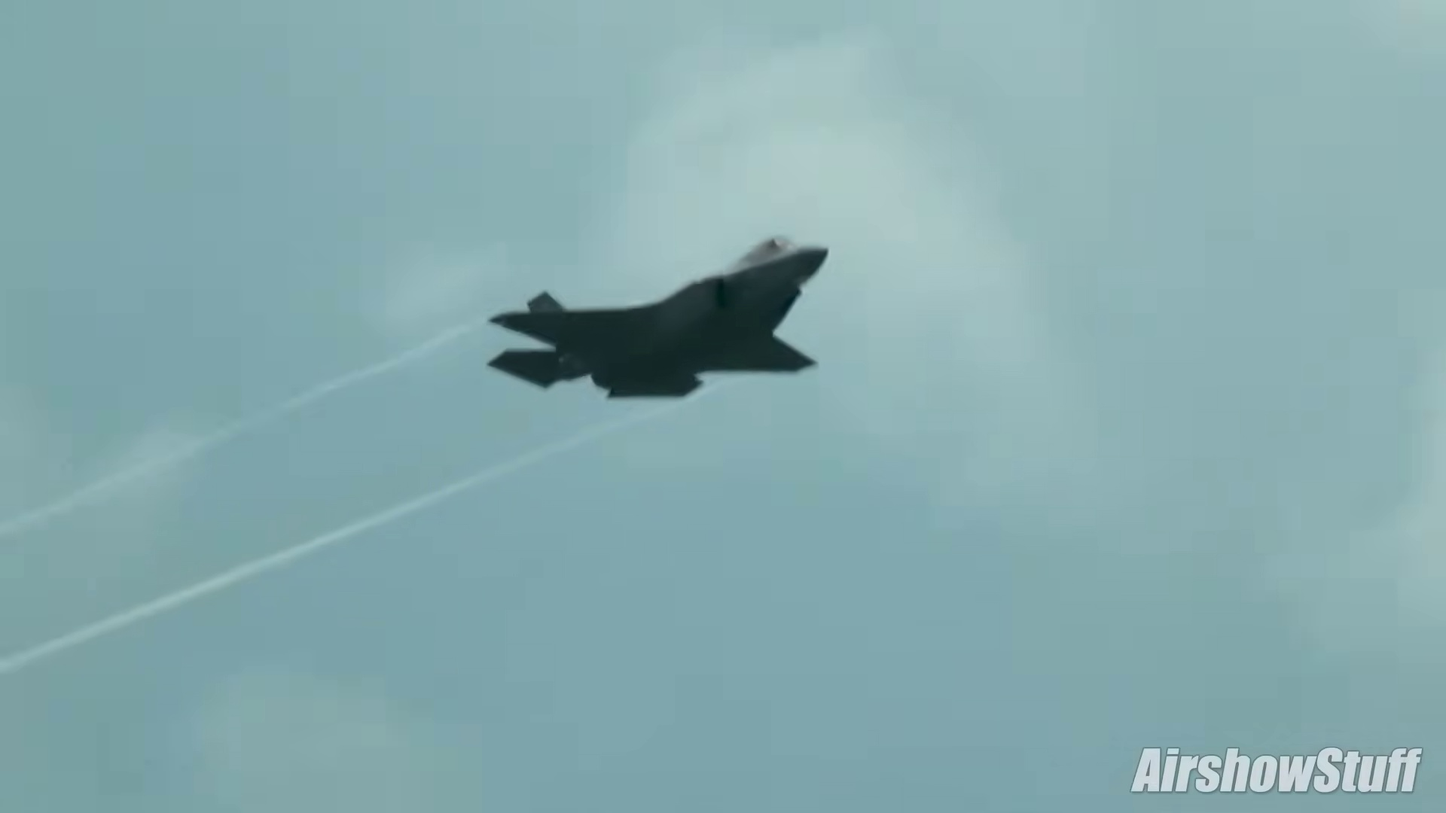F35: (480, 226, 833, 410)
